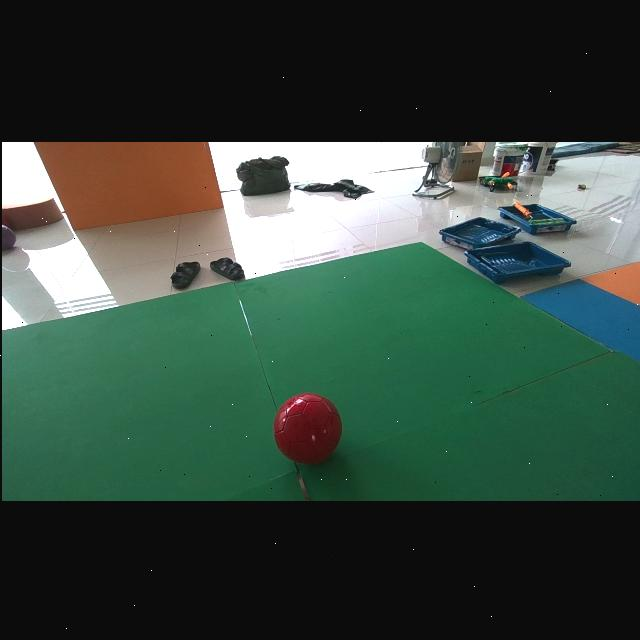R: (271, 392, 341, 462)
